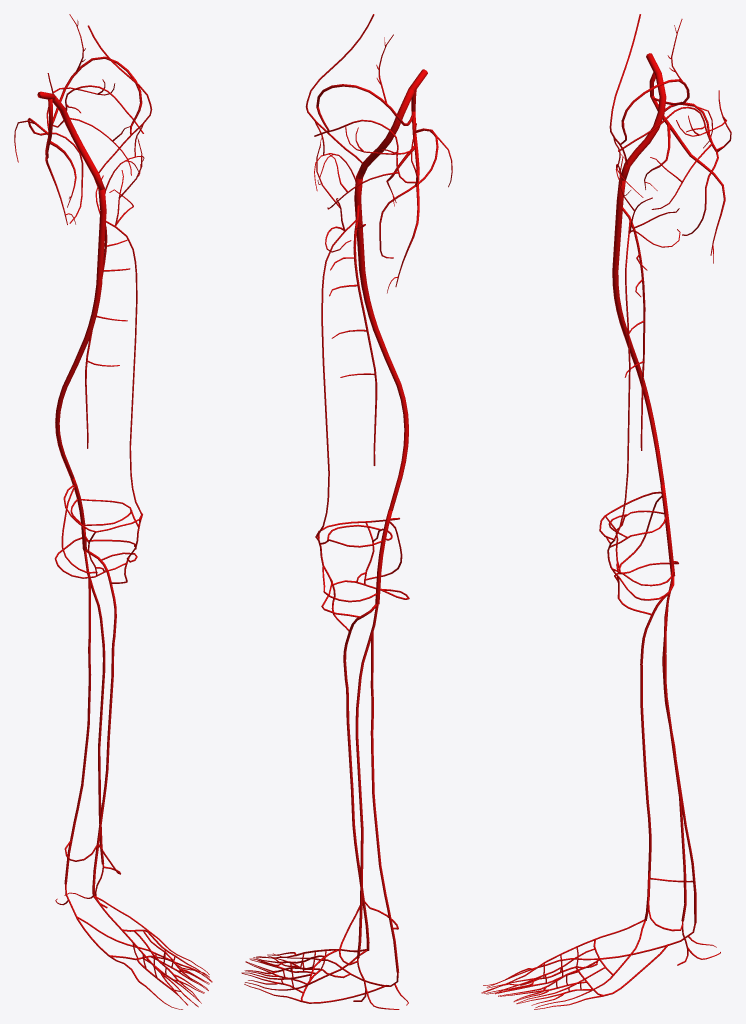
The model's file is Lower limb Arteries L.fbx.
The picture shows the model from 3 angles, left to right: view 1: azimuth 30°, elevation 25°; view 2: azimuth 210°, elevation 25°; view 3: azimuth 270°, elevation 25°; orthographic projection. The views are drawn at different scales.
Visible parts, largest first — view 1: Femoral_L, Anterior_tibial_L, Superior_gluteal_L, Fibular_L, Posterior_Tibial_L, External_iliac_L, Lateral_circumflex_femoral_descending_branch_L, Dorsal_digital_L, Deep_cirumflex_iliac_L, Iliolumbar_L, Proper_plantar_digital_L; view 2: Femoral_L, Superior_gluteal_L, Fibular_L, Anterior_tibial_L, Posterior_Tibial_L, External_iliac_L, Lateral_circumflex_femoral_descending_branch_L, Profunda_femoris_L, Deep_cirumflex_iliac_L, Iliolumbar_L, Proper_plantar_digital_L, Dorsal_digital_L (+1 smaller); view 3: Femoral_L, Superior_gluteal_L, Fibular_L, Anterior_tibial_L, External_iliac_L, Proper_plantar_digital_L, Lateral_circumflex_femoral_descending_branch_L, Dorsal_digital_L, Profunda_femoris_L, Posterior_Tibial_L.
Boxes of the visible parts, bbox=[...] form: Femoral_L: bbox=[55, 189, 106, 479]; Anterior_tibial_L: bbox=[86, 549, 116, 896]; Superior_gluteal_L: bbox=[27, 73, 143, 223]; Fibular_L: bbox=[83, 550, 107, 908]; Posterior_Tibial_L: bbox=[64, 579, 91, 884]; External_iliac_L: bbox=[52, 96, 104, 190]; Lateral_circumflex_femoral_descending_branch_L: bbox=[106, 220, 141, 514]; Dorsal_digital_L: bbox=[153, 934, 212, 1006]; Deep_cirumflex_iliac_L: bbox=[87, 25, 152, 173]; Iliolumbar_L: bbox=[53, 14, 142, 123]; Proper_plantar_digital_L: bbox=[139, 953, 211, 1009]; Femoral_L: bbox=[354, 177, 408, 510]; Superior_gluteal_L: bbox=[314, 119, 438, 258]; Fibular_L: bbox=[353, 604, 378, 1001]; Anterior_tibial_L: bbox=[343, 604, 377, 950]; Posterior_Tibial_L: bbox=[370, 632, 399, 972]; External_iliac_L: bbox=[356, 88, 414, 179]; Lateral_circumflex_femoral_descending_branch_L: bbox=[316, 219, 356, 537]; Profunda_femoris_L: bbox=[353, 205, 377, 465]; Deep_cirumflex_iliac_L: bbox=[305, 14, 374, 163]; Iliolumbar_L: bbox=[316, 34, 414, 125]; Proper_plantar_digital_L: bbox=[242, 953, 318, 1001]; Dorsal_digital_L: bbox=[241, 952, 304, 990]; Femoral_L: bbox=[612, 180, 664, 485]; Superior_gluteal_L: bbox=[618, 90, 731, 235]; Fibular_L: bbox=[664, 578, 688, 965]; Anterior_tibial_L: bbox=[640, 576, 674, 920]; External_iliac_L: bbox=[619, 72, 666, 180]; Proper_plantar_digital_L: bbox=[481, 966, 602, 1009]; Lateral_circumflex_femoral_descending_branch_L: bbox=[614, 219, 630, 539]; Dorsal_digital_L: bbox=[481, 968, 610, 1007]; Profunda_femoris_L: bbox=[622, 207, 645, 450]; Posterior_Tibial_L: bbox=[662, 606, 696, 923].
Bounding box in the file's own units: 15.55 × 120 × 28.21.
